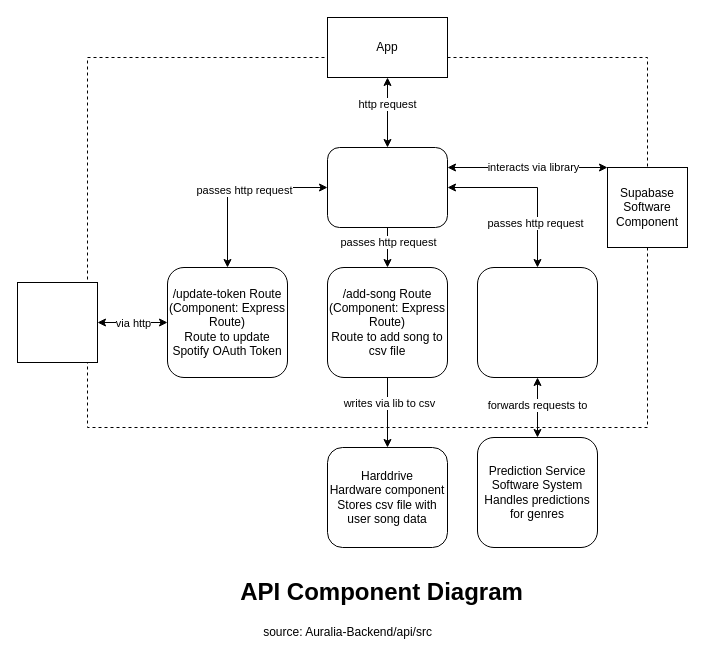
The diagram is 705 pixels wide and 665 high, and some of its shapes have lost their labels. Each missing label, with the box of its shape:
/predict Route (Component: Express Route) Route to get genre prediction: (476, 266, 598, 378)
auth MiddleWare (Component: Express middleware) Facade for user authentication: (326, 146, 448, 228)
Spotify Api Software Component Handles token refresh: (16, 282, 98, 362)
